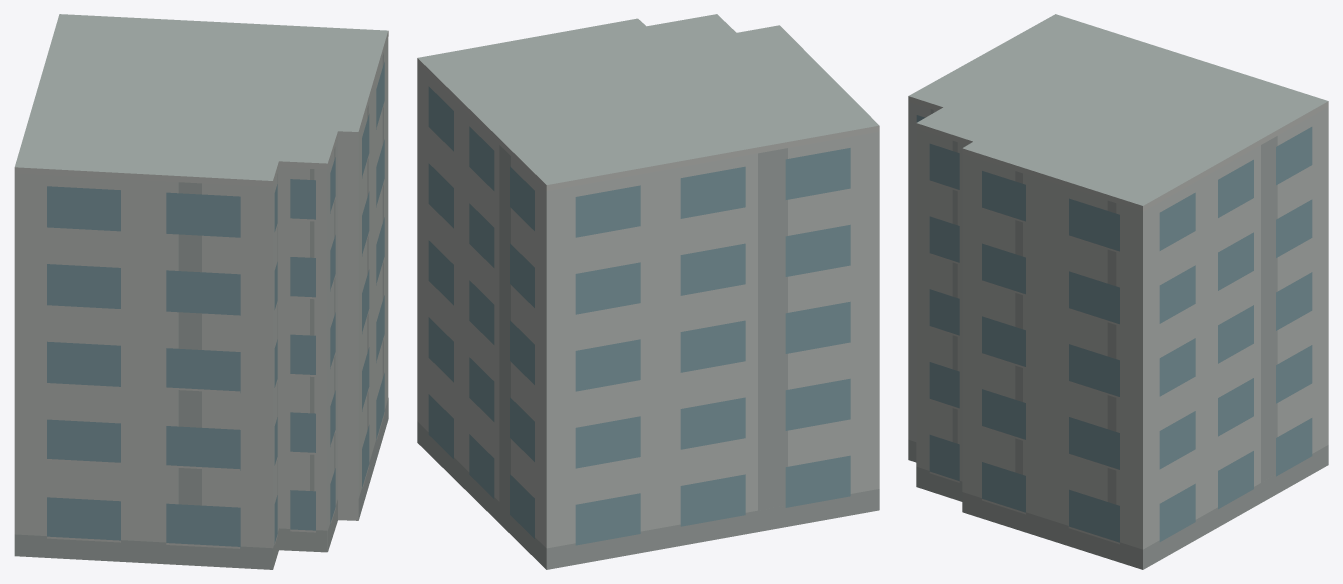
File: survey-upis-32697586.glb
3 renders of one model, left to right at view 1: azimuth 30°, elevation 25°; view 2: azimuth 150°, elevation 25°; view 3: azimuth 270°, elevation 25°, orthographic. The views are drawn at different scales.
Visible parts, largest first — view 1: survey-upis-32697586.tmp; view 2: survey-upis-32697586.tmp; view 3: survey-upis-32697586.tmp.
Boxes of the visible parts, x1,y1,x2,y2 form: survey-upis-32697586.tmp: [14, 14, 388, 569]; survey-upis-32697586.tmp: [417, 14, 879, 569]; survey-upis-32697586.tmp: [908, 14, 1328, 569].
Bounding box in the file's own units: 17.43 × 15.4 × 16.13.
